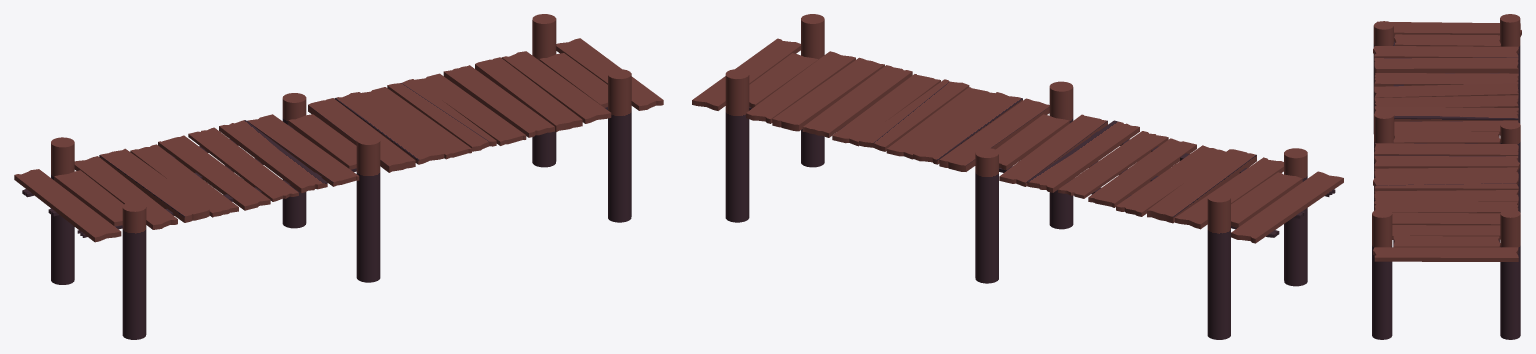
The model's file is Puente.fbx.
3 views of the same model, side by side, from view 1: azimuth 30°, elevation 25°; view 2: azimuth 150°, elevation 25°; view 3: azimuth 270°, elevation 25° (orthographic). The views are drawn at different scales.
Visible parts, largest first — view 1: Puente; view 2: Puente; view 3: Puente.
Boxes of the visible parts, x1,y1,x2,y2 form: Puente: (14,14,663,339); Puente: (692,14,1343,339); Puente: (1372,14,1521,339).
Size of the model in its own units: 4365 by 1050 by 1168.
